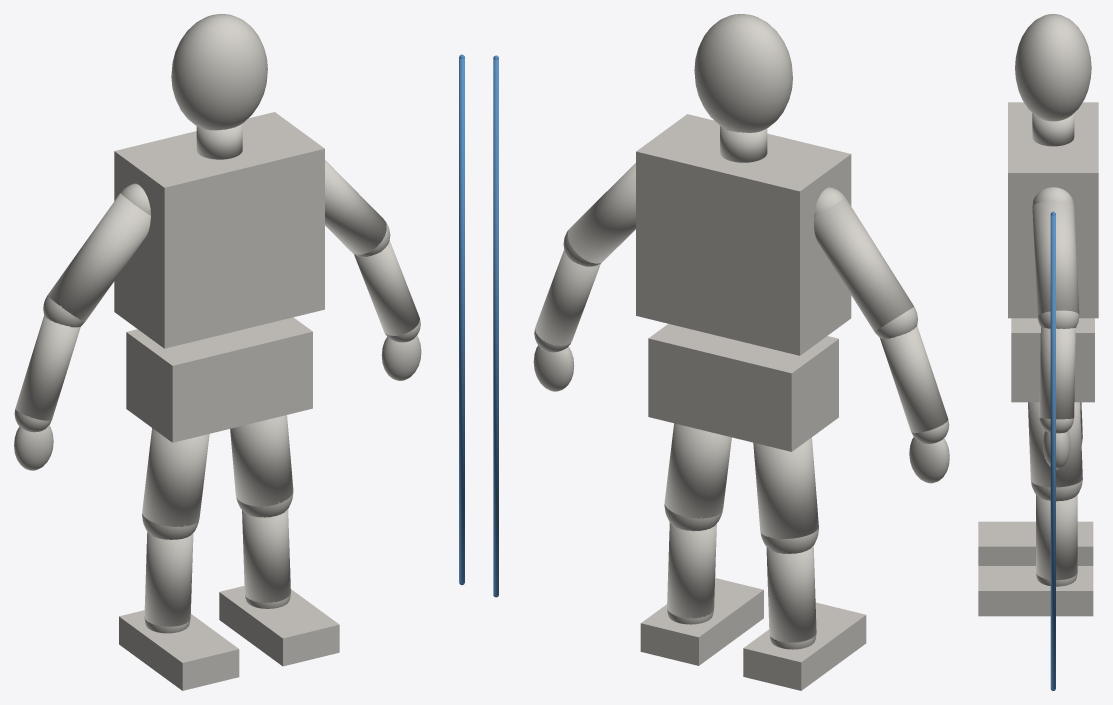
The model's file is figure.glb.
3 renders of one model, left to right at view 1: azimuth 30°, elevation 25°; view 2: azimuth 150°, elevation 25°; view 3: azimuth 270°, elevation 25°, orthographic. The views are drawn at different scales.
Visible parts, largest first — view 1: ribcage_block, pelvis_block, head, left_foot, right_foot, left_upper_arm_shaft, left_thigh_shaft, right_thigh_shaft, left_shin_shaft, right_shin_shaft, left_forearm_shaft, right_upper_arm_shaft (+6 smaller); view 2: ribcage_block, pelvis_block, head, left_upper_arm_shaft, left_foot, right_foot, left_thigh_shaft, right_thigh_shaft, left_shin_shaft, right_shin_shaft, left_forearm_shaft, right_upper_arm_shaft (+8 smaller); view 3: ribcage_block, head, right_foot, right_upper_arm_shaft, pelvis_block, left_foot, right_shin_shaft, height_reference_3m_shaft, right_forearm_shaft, right_thigh_shaft, neck_shaft, right_hand (+5 smaller).
Part boxes in pixels (box(x1,y1,x2,y2)): ribcage_block: box(114, 112, 324, 348); pelvis_block: box(126, 317, 312, 442); head: box(171, 14, 267, 130); left_foot: box(119, 610, 239, 690); right_foot: box(219, 585, 339, 666); left_upper_arm_shaft: box(47, 193, 150, 321); left_thigh_shaft: box(142, 428, 209, 526); right_thigh_shaft: box(230, 415, 293, 506); left_shin_shaft: box(144, 532, 193, 626); right_shin_shaft: box(242, 509, 290, 602); left_forearm_shaft: box(15, 315, 80, 420); right_upper_arm_shaft: box(325, 160, 386, 254); ribcage_block: box(636, 114, 851, 355); pelvis_block: box(648, 324, 838, 451); head: box(694, 14, 792, 132); left_upper_arm_shaft: box(814, 198, 913, 331); left_foot: box(743, 602, 866, 690); right_foot: box(640, 578, 763, 665); left_thigh_shaft: box(753, 437, 818, 538); right_thigh_shaft: box(664, 423, 731, 518); left_shin_shaft: box(766, 546, 816, 642); right_shin_shaft: box(667, 522, 716, 618); left_forearm_shaft: box(880, 325, 948, 432); right_upper_arm_shaft: box(568, 163, 635, 263); ribcage_block: box(1008, 102, 1098, 318); head: box(1015, 14, 1091, 121); right_foot: box(978, 566, 1093, 616); right_upper_arm_shaft: box(1032, 200, 1079, 316); pelvis_block: box(1011, 318, 1094, 402); left_foot: box(978, 521, 1093, 565); right_shin_shaft: box(1036, 495, 1077, 580); height_reference_3m_shaft: box(1050, 215, 1055, 689); right_forearm_shaft: box(1039, 327, 1075, 419); right_thigh_shaft: box(1028, 402, 1082, 487); neck_shaft: box(1032, 113, 1074, 146); right_hand: box(1043, 431, 1070, 469).
Size of the model in its own units: 2.68 by 3.58 by 0.69.
